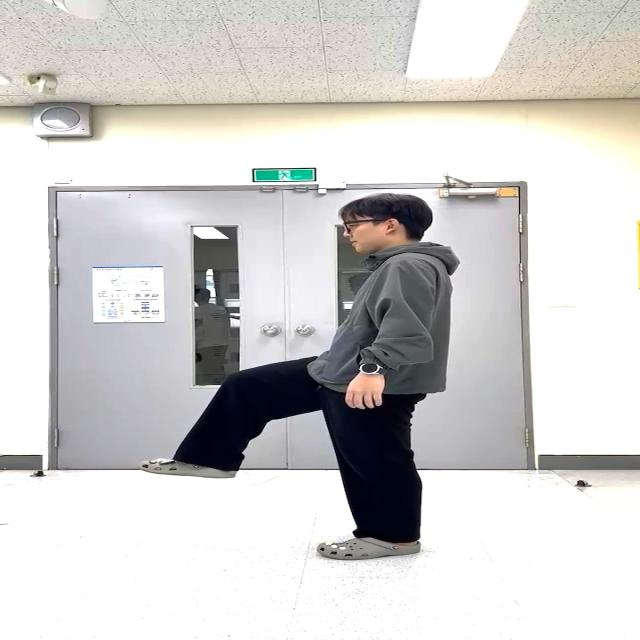leg: (138, 355, 322, 478), (316, 385, 424, 559)
